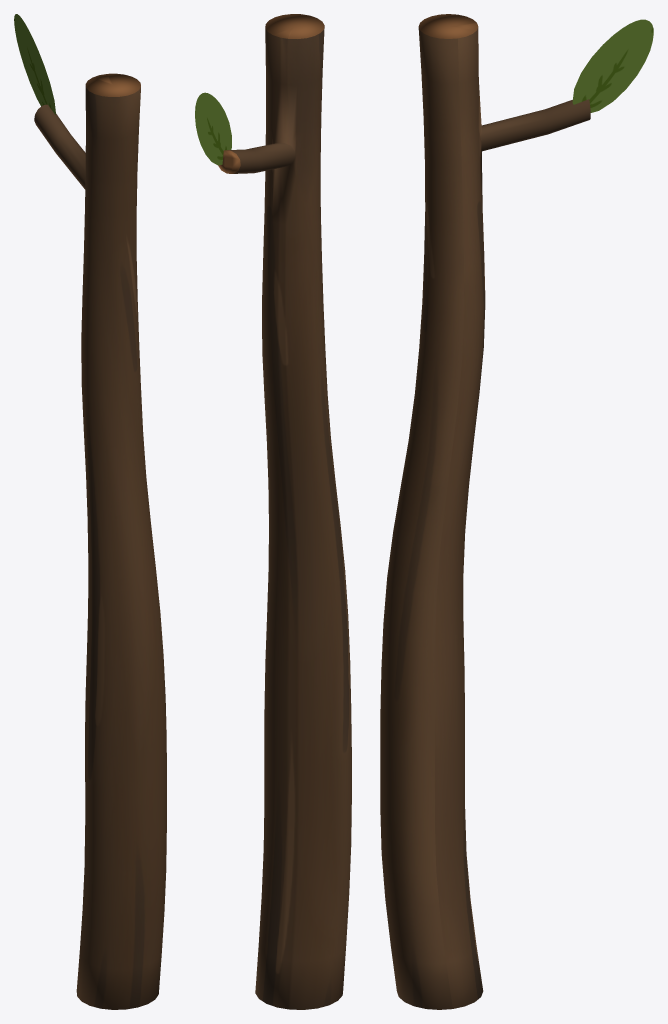
File: Stick.fbx
3 renders of one model, left to right at view 1: azimuth 30°, elevation 25°; view 2: azimuth 150°, elevation 25°; view 3: azimuth 270°, elevation 25°, orthographic. The views are drawn at different scales.
Visible parts, largest first — view 1: pCylinder2; view 2: pCylinder2; view 3: pCylinder2.
Boxes of the visible parts, x1,y1,x2,y2 form: pCylinder2: [14, 14, 166, 1009]; pCylinder2: [195, 14, 351, 1009]; pCylinder2: [380, 14, 653, 1009].
Size of the model in its own units: 0.0785 by 0.9473 by 0.2421.
